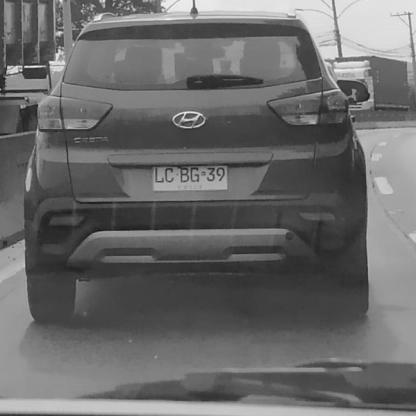Patente: (142, 157, 233, 196)
